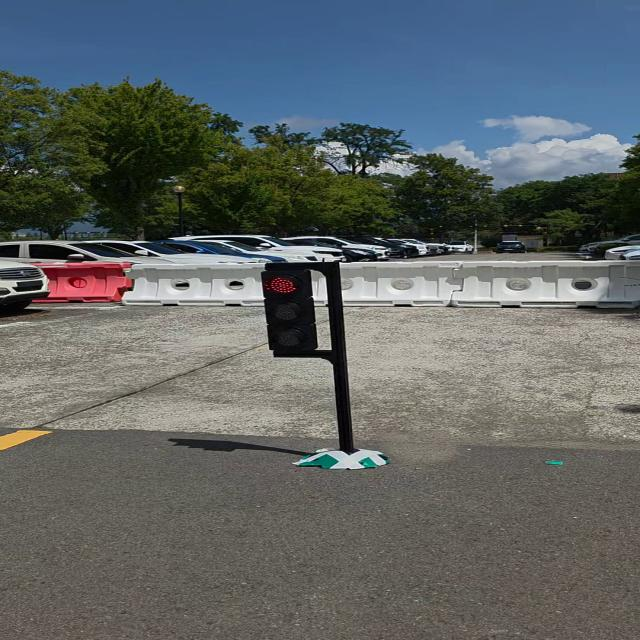red: (259, 268, 323, 359)
